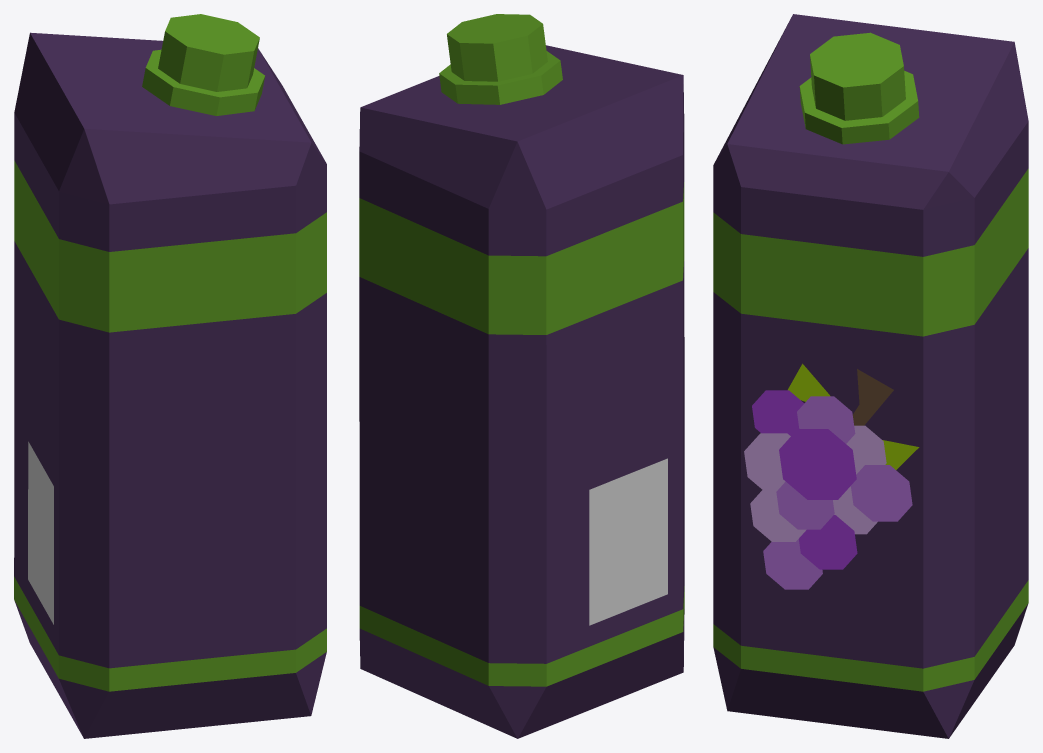
The model's file is GrapeJuice_Consu.glb.
3 views of the same model, side by side, from view 1: azimuth 30°, elevation 25°; view 2: azimuth 150°, elevation 25°; view 3: azimuth 270°, elevation 25° (orthographic). The views are drawn at different scales.
Parts seen in each view (by area): view 1: GrapeJuiceHighPoly; view 2: GrapeJuiceHighPoly; view 3: GrapeJuiceHighPoly.
Boxes of the visible parts, left/top/right/bottom form: GrapeJuiceHighPoly: left=14, top=14, right=326, bottom=738; GrapeJuiceHighPoly: left=359, top=14, right=684, bottom=738; GrapeJuiceHighPoly: left=713, top=14, right=1028, bottom=738.
Size of the model in its own units: 0.1283 by 0.2861 by 0.1272.
1 material, 1 textured.
